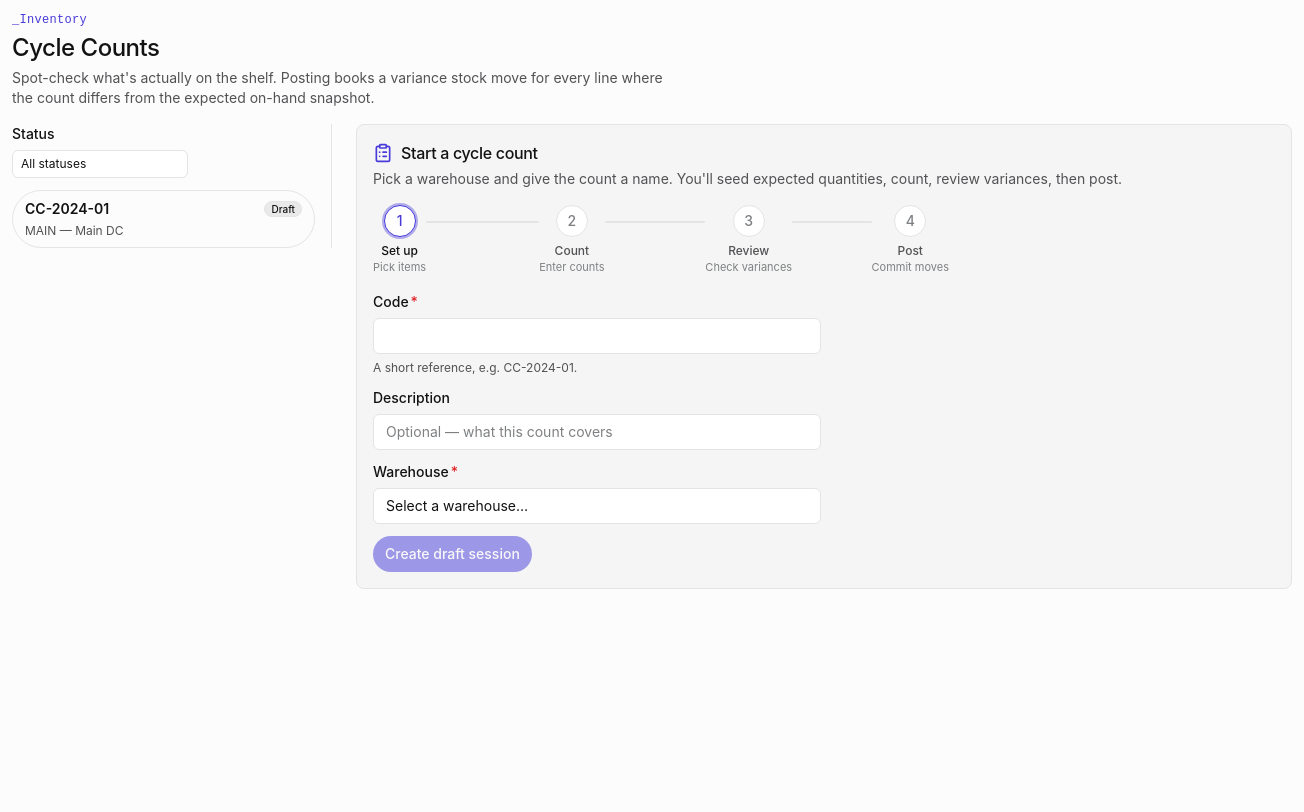
Test: CycleCountPage › lists sessions and opens a draft session's detail panel
Click the button "CC-2024-01 Draft MAIN — Main DC": (67, 208) [12,190,315,248]
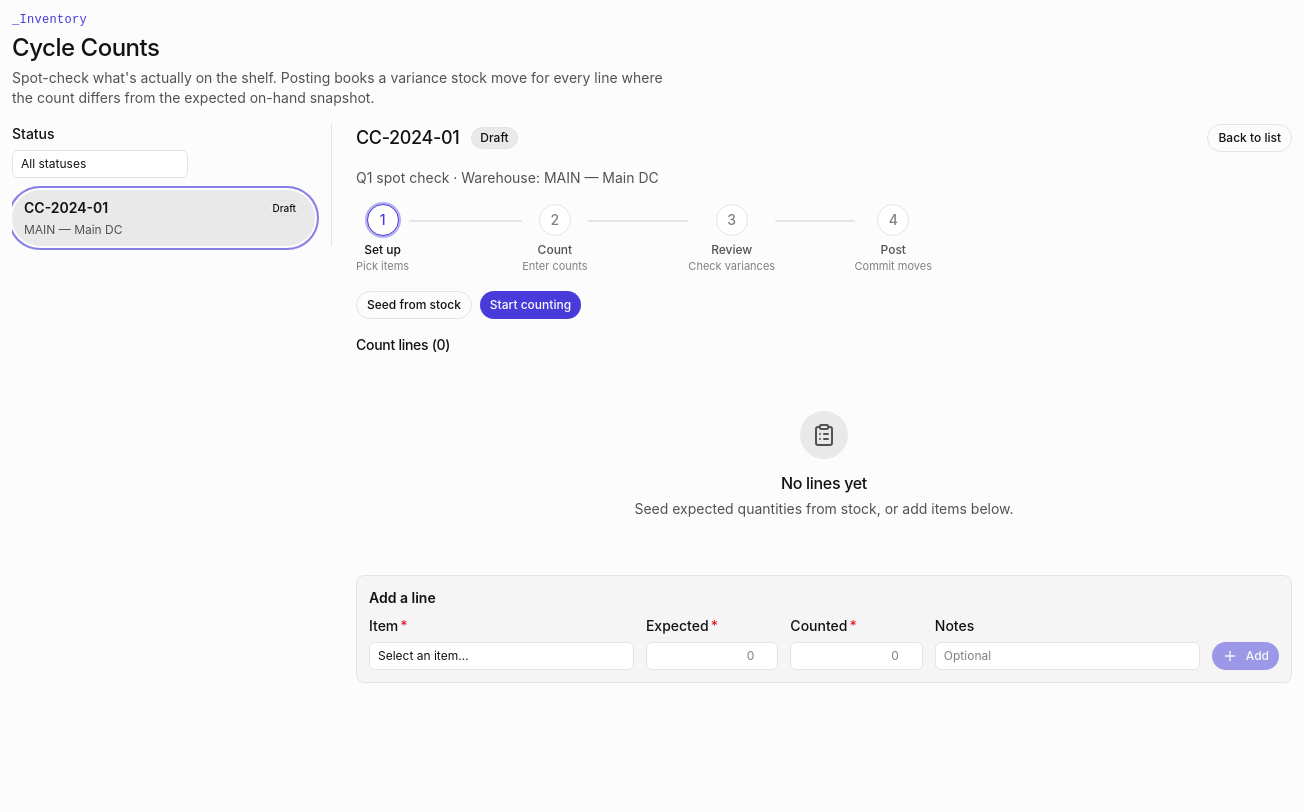
expect the heading "CC-2024-01" is shown: met, box [356,124,459,152]
expect the button "Start counting" is shown: met, box [480,290,581,318]
